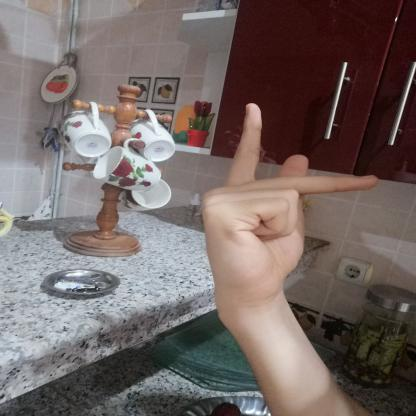DHAA: (184, 93, 392, 312)
